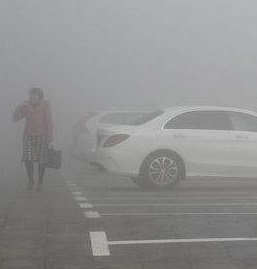person: (11, 86, 61, 193)
